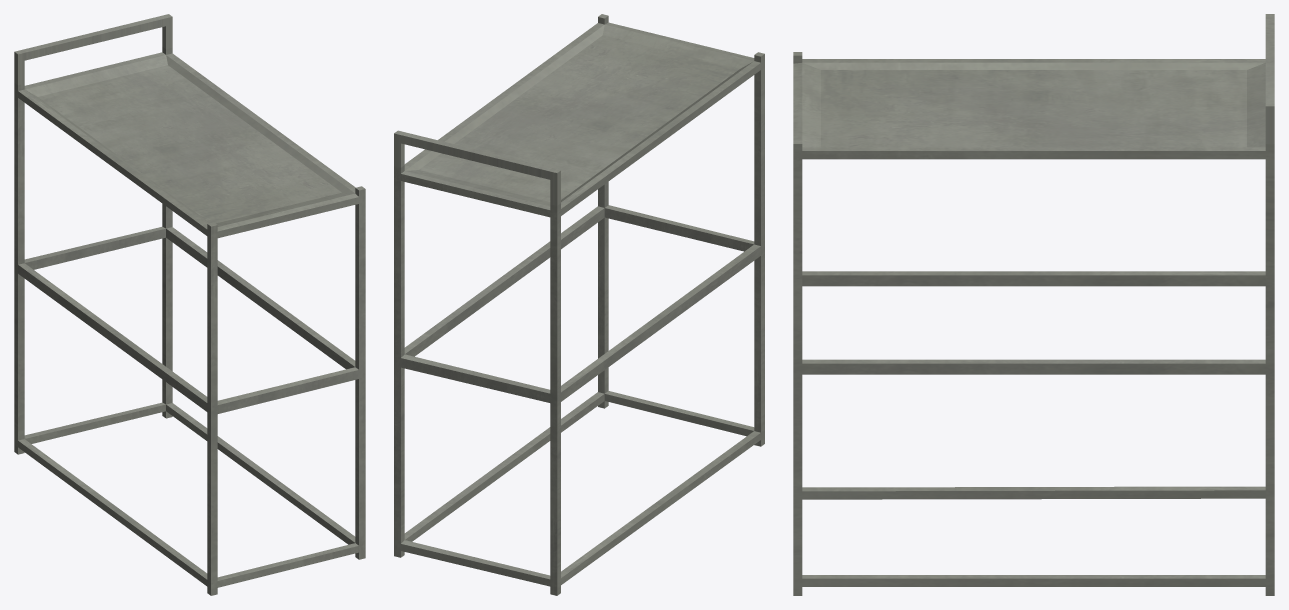
The model's file is Shelf.fbx.
The picture shows the model from 3 angles, left to right: view 1: azimuth 30°, elevation 25°; view 2: azimuth 150°, elevation 25°; view 3: azimuth 270°, elevation 25°; orthographic projection. The views are drawn at different scales.
Parts seen in each view (by area): view 1: Box001; view 2: Box001; view 3: Box001.
Part boxes in pixels (box(x1,y1,x2,y2)): Box001: box(14, 14, 365, 595); Box001: box(394, 14, 764, 595); Box001: box(793, 14, 1274, 595).
Size of the model in its own units: 35.7 by 88.38 by 78.75.
Materials: 1 (1 with a texture image).
